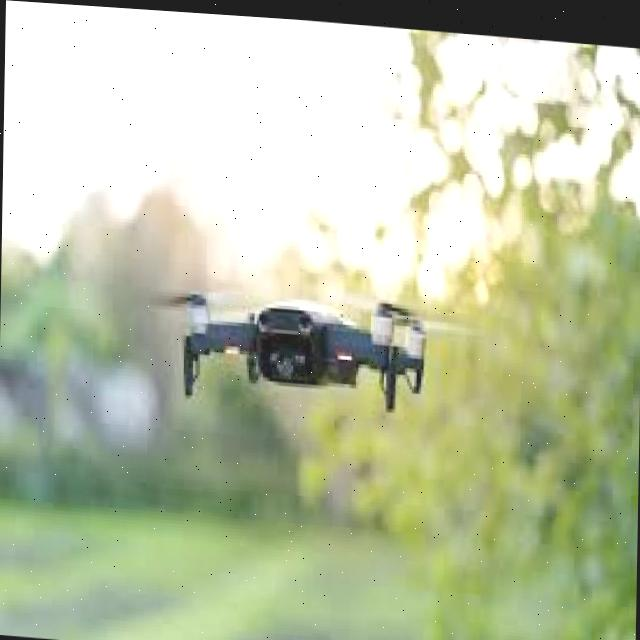drone: (140, 247, 467, 436)
